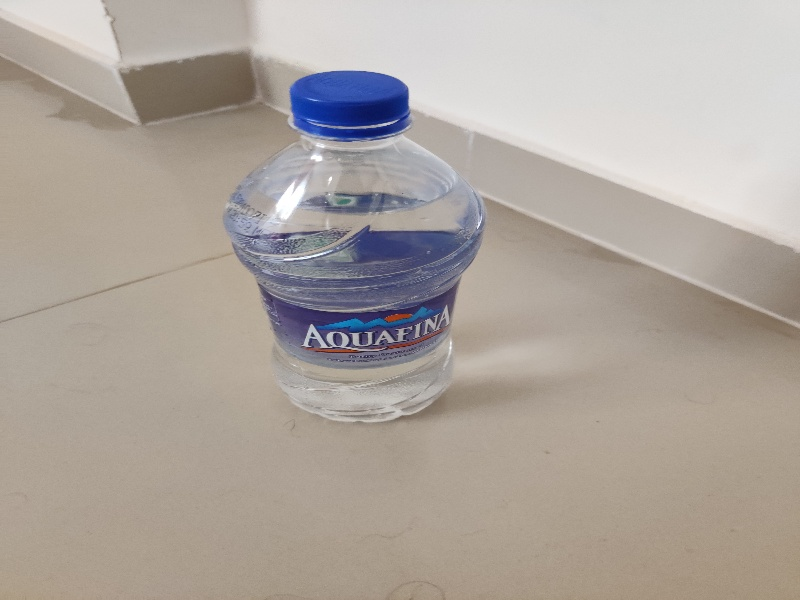bottle: (218, 62, 486, 428)
